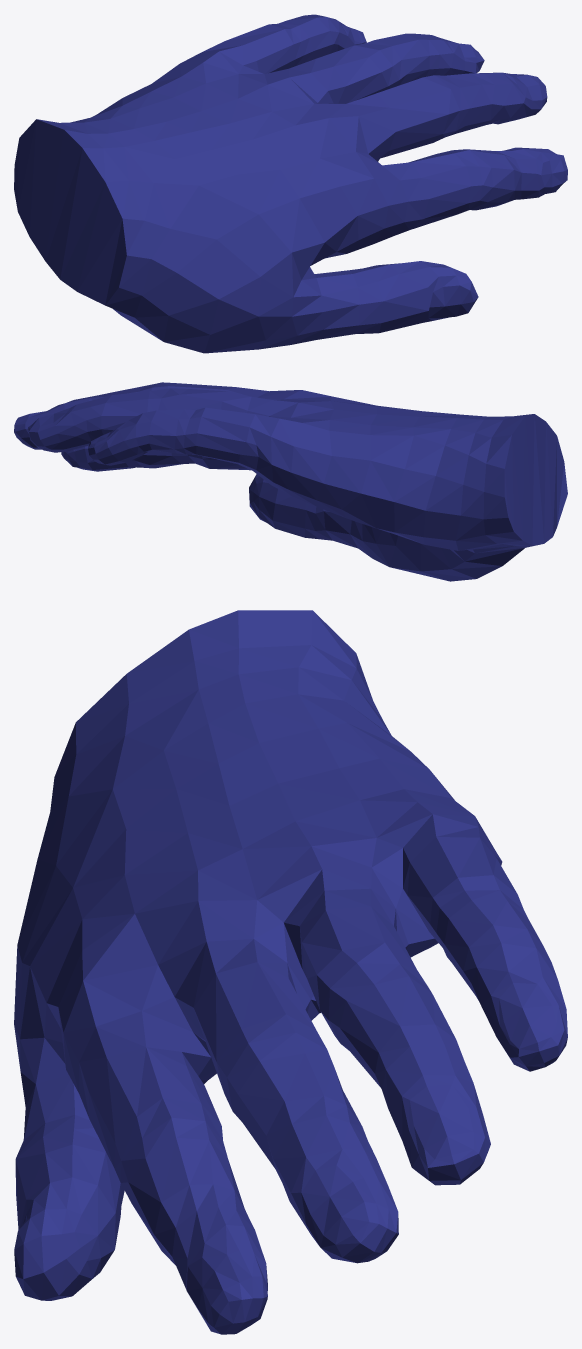
The model's file is img.png_hand01.obj.
The picture shows the model from 3 angles, top to bottom: view 1: azimuth 30°, elevation 25°; view 2: azimuth 150°, elevation 25°; view 3: azimuth 270°, elevation 25°; orthographic projection. The views are drawn at different scales.
Size of the model in its own units: 0.1897 by 0.0789 by 0.0972.
